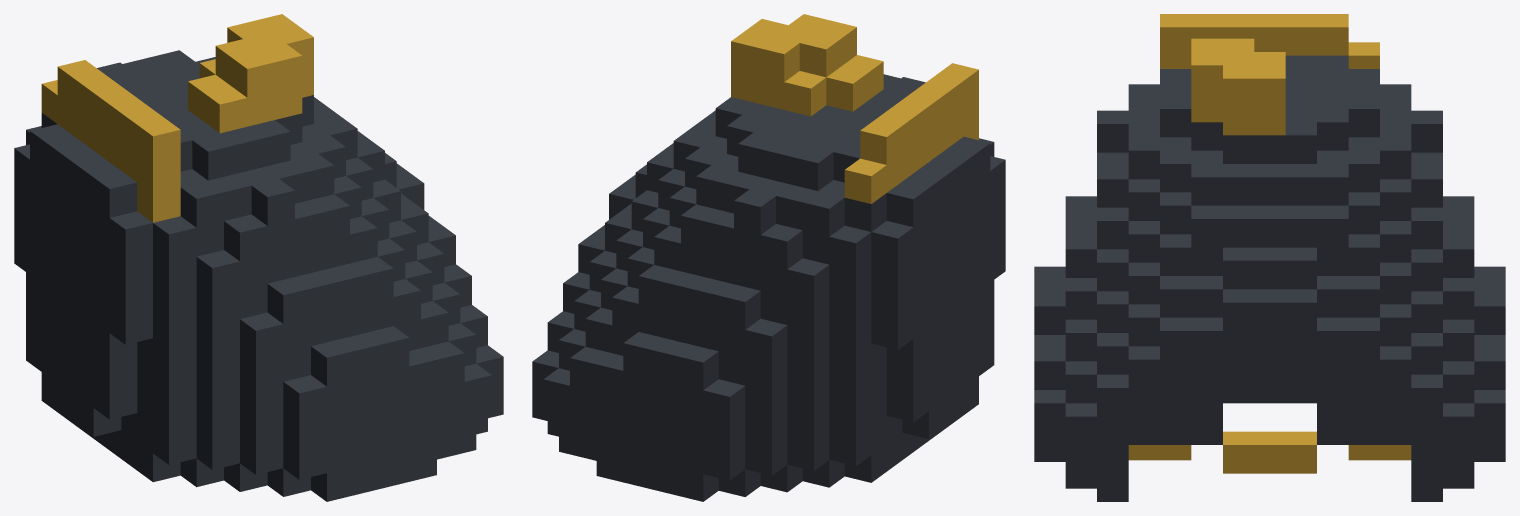
File: plate_epic_shoulder_L_lod1.glb
The picture shows the model from 3 angles, left to right: view 1: azimuth 30°, elevation 25°; view 2: azimuth 150°, elevation 25°; view 3: azimuth 270°, elevation 25°; orthographic projection. The views are drawn at different scales.
Visible parts, largest first — view 1: plate_epic_shoulder_L_lod1; view 2: plate_epic_shoulder_L_lod1; view 3: plate_epic_shoulder_L_lod1.
Part boxes in pixels (bbox=[...]): plate_epic_shoulder_L_lod1: bbox=[14, 14, 503, 501]; plate_epic_shoulder_L_lod1: bbox=[532, 14, 1005, 501]; plate_epic_shoulder_L_lod1: bbox=[1034, 14, 1505, 501].
Bounding box in the file's own units: 0.288 × 0.312 × 0.36.
